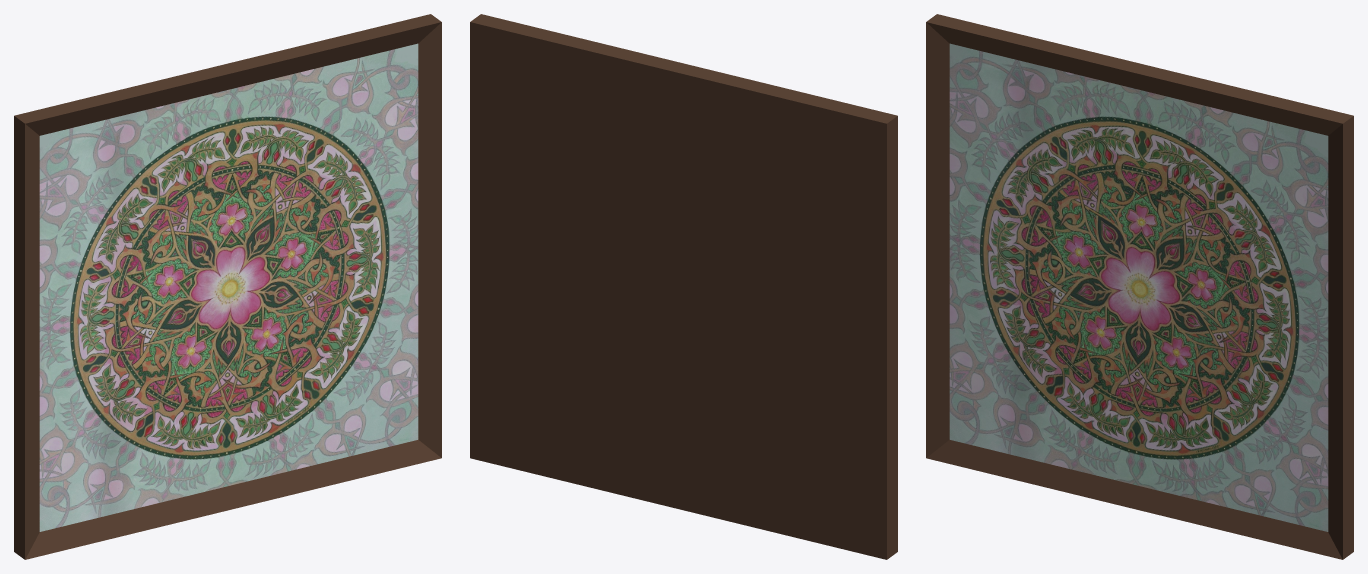
File: wild-rose-wild-rose-sussex-pink-a1-walnut-tray-v2.glb
3 views of the same model, side by side, from view 1: azimuth 30°, elevation 25°; view 2: azimuth 150°, elevation 25°; view 3: azimuth 330°, elevation 25° (orthographic).
Visible parts, largest first — view 1: FramedPrint; view 2: FramedPrint; view 3: FramedPrint.
Boxes of the visible parts, box(x1,y1,x2,y2) form: FramedPrint: box(14, 14, 441, 559); FramedPrint: box(470, 14, 897, 559); FramedPrint: box(926, 14, 1353, 559).
Bounding box in the file's own units: 0.655 × 0.655 × 0.03.
2 materials, 1 textured.
